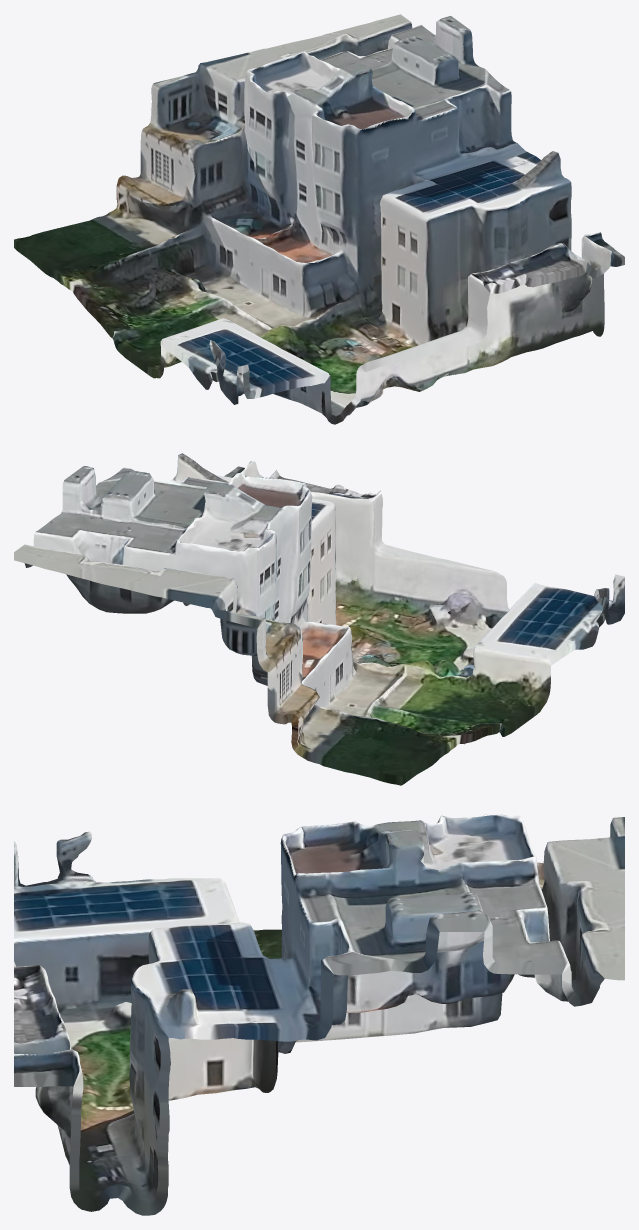
The model's file is z20-167726-405192-h0-yup-uvflip-v3-world.glb.
3 views of the same model, one above another, from view 1: azimuth 30°, elevation 25°; view 2: azimuth 150°, elevation 25°; view 3: azimuth 270°, elevation 25° (orthographic). The views are drawn at different scales.
Bounding box in the file's own units: 30.16 × 16.24 × 30.32.
1 material, 1 textured.
